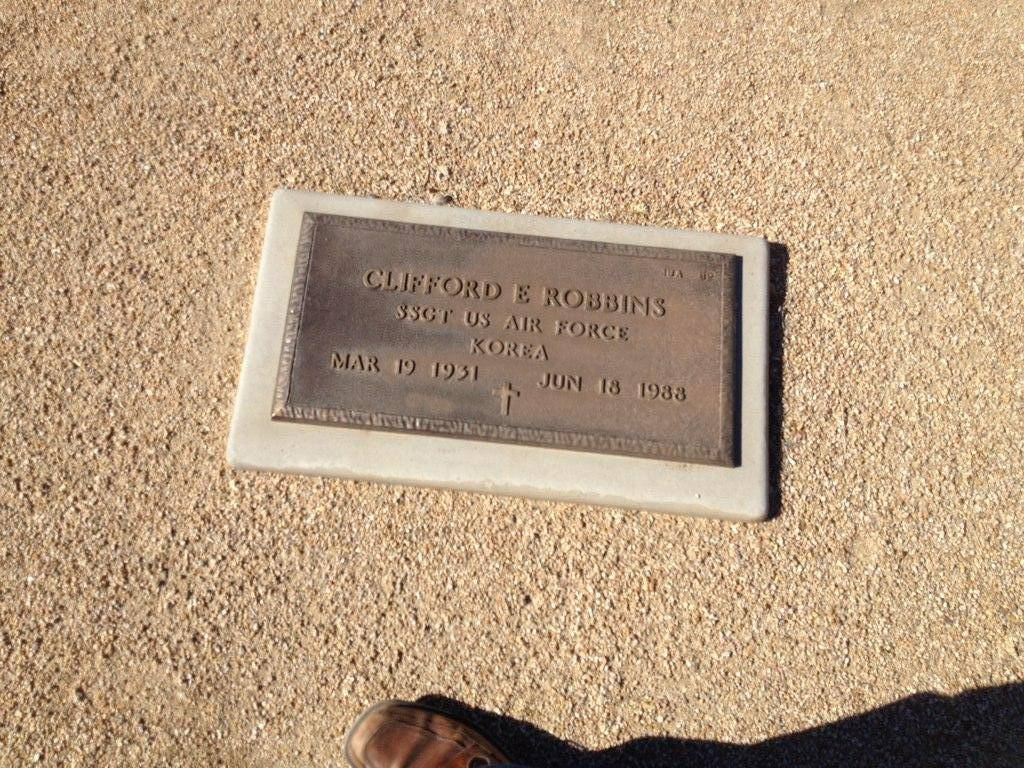flat: (226, 173, 771, 530)
